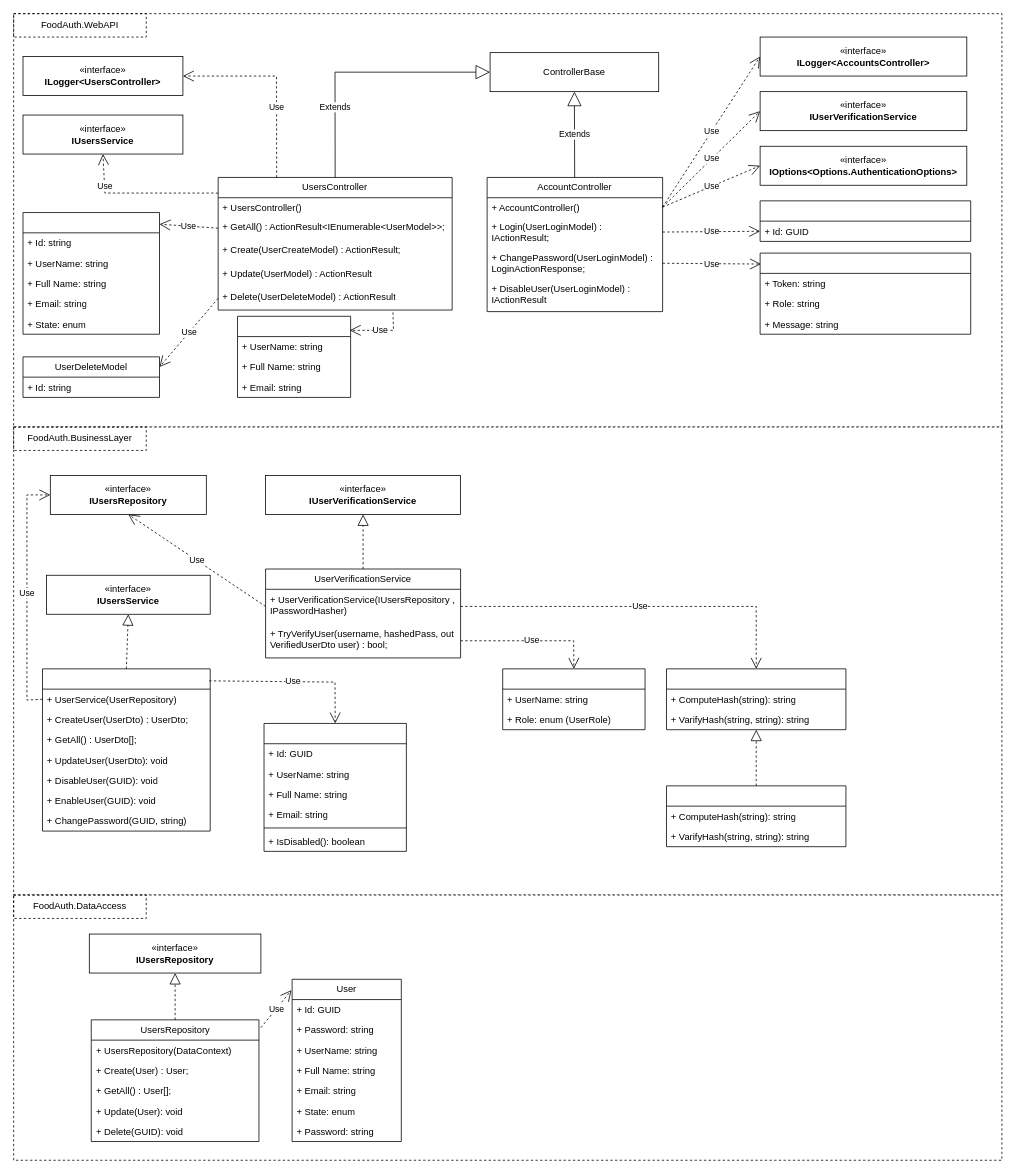
The diagram is 1016 pixels wide and 1174 high, and some of its shapes have lost their labels. The shapes that lost their labels are listed below. From the top down, each one's box as (x1, y1, x2, y2) in pixels, then its label:
(759, 200, 971, 241): UserLoginModel
(22, 212, 160, 334): UserModel
(759, 252, 971, 334): LoginActionResponse
(237, 316, 351, 397): UserCreateModel
(502, 668, 645, 730): VerifiedUserDto
(666, 668, 846, 730): IPasswordHasher
(42, 668, 210, 831): UsersService
(263, 723, 406, 851): UserDto
(666, 785, 846, 847): MD5PasswordHasher
